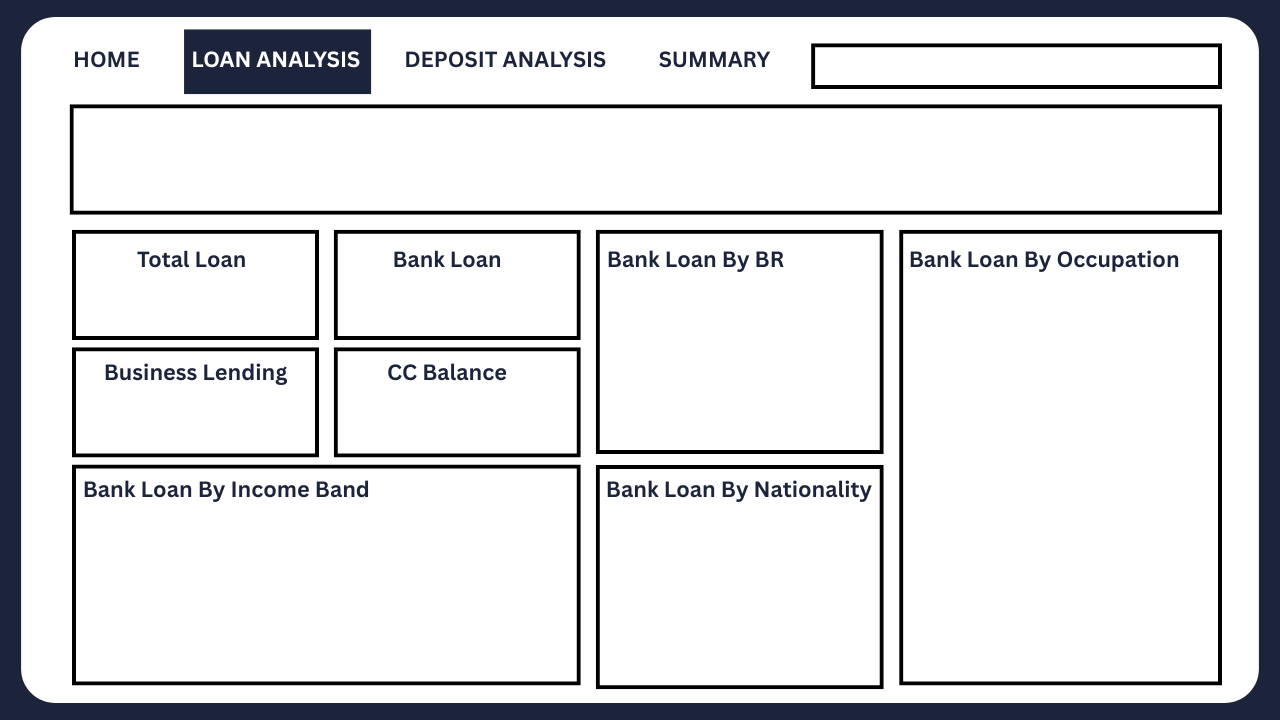

This screenshot's page, from the dashboard's own definition file:
{"tool":"powerbi","page":{"name":"Loan Analysis","canvas":[1280,720],"ordinal":1},"visuals":[{"type":"slicer","fields":{"Values":["banking_case customer.Year of Joining"]},"box":[811,45,408,39],"z":0},{"type":"actionButton","box":[48,32,112,48],"z":1000},{"type":"actionButton","box":[400,32,208,48],"z":2000},{"type":"actionButton","box":[656,32,112,48],"z":3000},{"type":"card","fields":{"Values":["banking_case customer.Total Loan"]},"box":[128,280,165,48],"z":4000},{"type":"card","fields":{"Values":["Sum(banking_case customer.Bank Loans)"]},"box":[384,288,165,48],"z":5000},{"type":"card","fields":{"Values":["Sum(banking_case customer.Business Lending)"]},"box":[128,400,144,48],"z":6000},{"type":"card","fields":{"Values":["Sum(banking_case customer.Credit Card Balance)"]},"box":[384,400,165,48],"z":7000},{"type":"donutChart","fields":{"Y":["Sum(banking_case customer.Bank Loans)"],"Category":["banking_case customer.Income Band"]},"box":[80,512,480,160],"z":8000},{"type":"clusteredColumnChart","fields":{"Category":["banking_case customer.BRId"],"Y":["Sum(banking_case customer.Bank Loans)"]},"box":[608,272,240,160],"z":9000},{"type":"clusteredColumnChart","fields":{"Category":["banking_case customer.Nationality"],"Y":["Sum(banking_case customer.Bank Loans)"]},"box":[608,512,240,160],"z":10000},{"type":"clusteredColumnChart","fields":{"Category":["banking_case customer.Occupation"],"Y":["Sum(banking_case customer.Bank Loans)"]},"box":[912,288,288,384],"z":11000},{"type":"slicer","fields":{"Values":["banking_case customer.BRId"]},"box":[80,144,440,64],"z":12000},{"type":"slicer","fields":{"Values":["banking_case customer.GenderId"]},"box":[512,144,288,64],"z":13000},{"type":"slicer","fields":{"Values":["banking_case customer.Institutional Advisor"]},"box":[816,152,400,52],"z":14000}]}

Visuals, with their boxes in screenshot pixels (x1, y1, x2, y2), scaled from the page's 1280x720 canvas onto the 1280x720 screenshot:
slicer - banking_case customer.Year of Joining: 811,45,1219,84
actionButton: 48,32,160,80
actionButton: 400,32,608,80
actionButton: 656,32,768,80
card - banking_case customer.Total Loan: 128,280,293,328
card - Sum(banking_case customer.Bank Loans): 384,288,549,336
card - Sum(banking_case customer.Business Lending): 128,400,272,448
card - Sum(banking_case customer.Credit Card Balance): 384,400,549,448
donutChart - Sum(banking_case customer.Bank Loans) x banking_case customer.Income Band: 80,512,560,672
clusteredColumnChart - banking_case customer.BRId x Sum(banking_case customer.Bank Loans): 608,272,848,432
clusteredColumnChart - banking_case customer.Nationality x Sum(banking_case customer.Bank Loans): 608,512,848,672
clusteredColumnChart - banking_case customer.Occupation x Sum(banking_case customer.Bank Loans): 912,288,1200,672
slicer - banking_case customer.BRId: 80,144,520,208
slicer - banking_case customer.GenderId: 512,144,800,208
slicer - banking_case customer.Institutional Advisor: 816,152,1216,204
